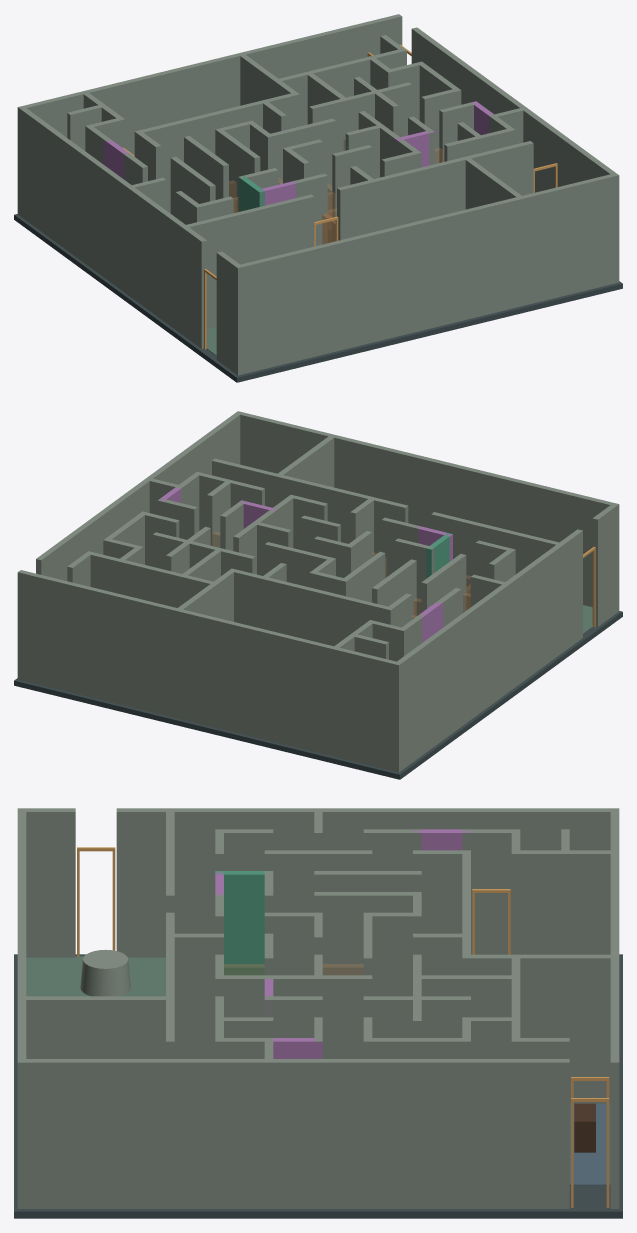
Rendered from Quy-Mu-REV-P-S3.glb.
3 renders of one model, top to bottom at view 1: azimuth 30°, elevation 25°; view 2: azimuth 150°, elevation 25°; view 3: azimuth 270°, elevation 25°, orthographic. The views are drawn at different scales.
Visible parts, largest first — view 1: object 24, object 25, object 1, object 23, object 50, object 22, object 56, object 5, object 8, object 4, object 26, object 44 (+36 smaller); view 2: object 1, object 25, object 24, object 5, object 50, object 56, object 23, object 4, object 22, object 26, object 39, object 8 (+39 smaller); view 3: object 50, object 25, object 39, object 30, object 56, object 44, object 26, object 41, object 38, object 27, object 34, E1_normally_closed_emergency_panel (+34 smaller).
Boxes of the visible parts, left/top/right/bottom form: object 24: left=234, top=174, right=619, bottom=375; object 25: left=17, top=106, right=207, bottom=348; object 1: left=17, top=14, right=402, bottom=216; object 23: left=337, top=141, right=533, bottom=240; object 50: left=411, top=27, right=619, bottom=283; object 22: left=180, top=194, right=314, bottom=335; object 56: left=14, top=214, right=622, bottom=382; object 5: left=134, top=92, right=299, bottom=213; object 8: left=309, top=82, right=411, bottom=152; object 4: left=273, top=48, right=406, bottom=126; object 26: left=216, top=251, right=243, bottom=375; object 44: left=464, top=156, right=525, bottom=306; object 1: left=17, top=570, right=402, bottom=772; object 25: left=393, top=529, right=582, bottom=771; object 24: left=235, top=411, right=619, bottom=611; object 5: left=229, top=568, right=393, bottom=646; object 50: left=36, top=412, right=242, bottom=580; object 56: left=14, top=611, right=622, bottom=779; object 23: left=212, top=458, right=408, bottom=555; object 4: left=87, top=551, right=218, bottom=617; object 22: left=431, top=512, right=564, bottom=652; object 26: left=592, top=504, right=619, bottom=626; object 39: left=174, top=569, right=236, bottom=718; object 8: left=152, top=532, right=255, bottom=575; object 50: left=17, top=1059, right=569, bottom=1208; object 25: left=116, top=808, right=619, bottom=957; object 39: left=463, top=954, right=618, bottom=1103; object 30: left=511, top=850, right=619, bottom=954; object 56: left=14, top=954, right=622, bottom=1218; object 44: left=17, top=996, right=174, bottom=1058; object 26: left=17, top=808, right=75, bottom=957; object 41: left=215, top=975, right=372, bottom=1058; object 38: left=166, top=933, right=223, bottom=1058; object 27: left=462, top=829, right=519, bottom=954; object 34: left=314, top=892, right=421, bottom=975; E1_normally_closed_emergency_panel: left=215, top=871, right=268, bottom=975.
Bounding box in the file's own units: 11.3 × 3.16 × 11.3.
